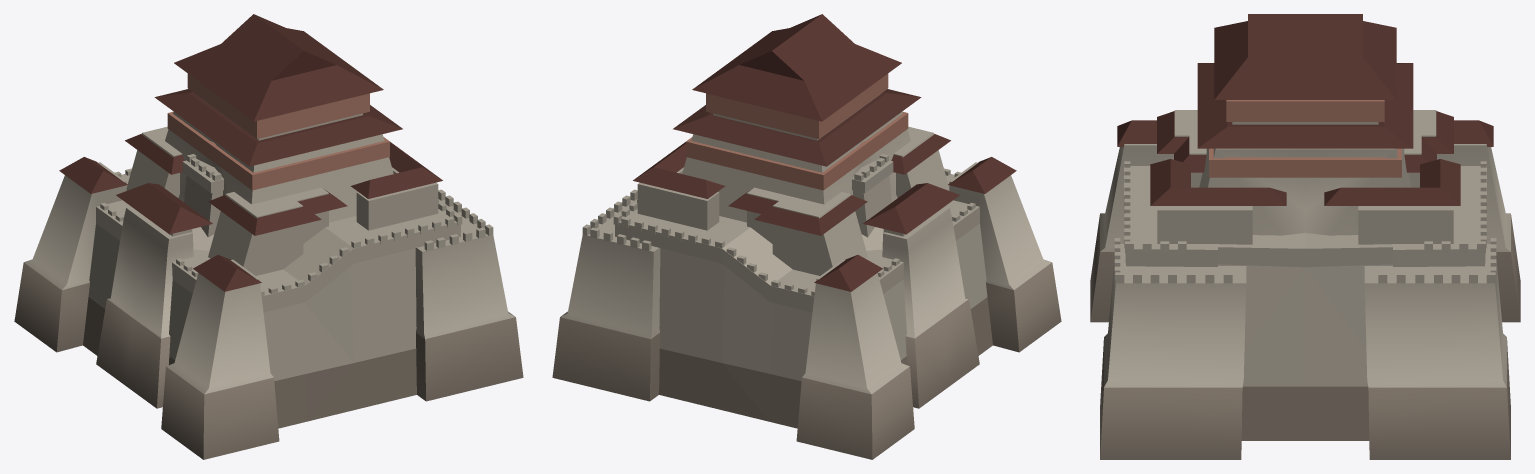
File: Chengbao_b_01.FBX
3 views of the same model, side by side, from view 1: azimuth 30°, elevation 25°; view 2: azimuth 150°, elevation 25°; view 3: azimuth 270°, elevation 25° (orthographic). The views are drawn at different scales.
Parts seen in each view (by area): view 1: Box006; view 2: Box006; view 3: Box006.
Part boxes in pixels (box(x1,y1,x2,y2)): Box006: box(14, 14, 523, 459); Box006: box(552, 14, 1061, 459); Box006: box(1090, 14, 1520, 459).
Bounding box in the file's own units: 45.49 × 42.52 × 45.94.
